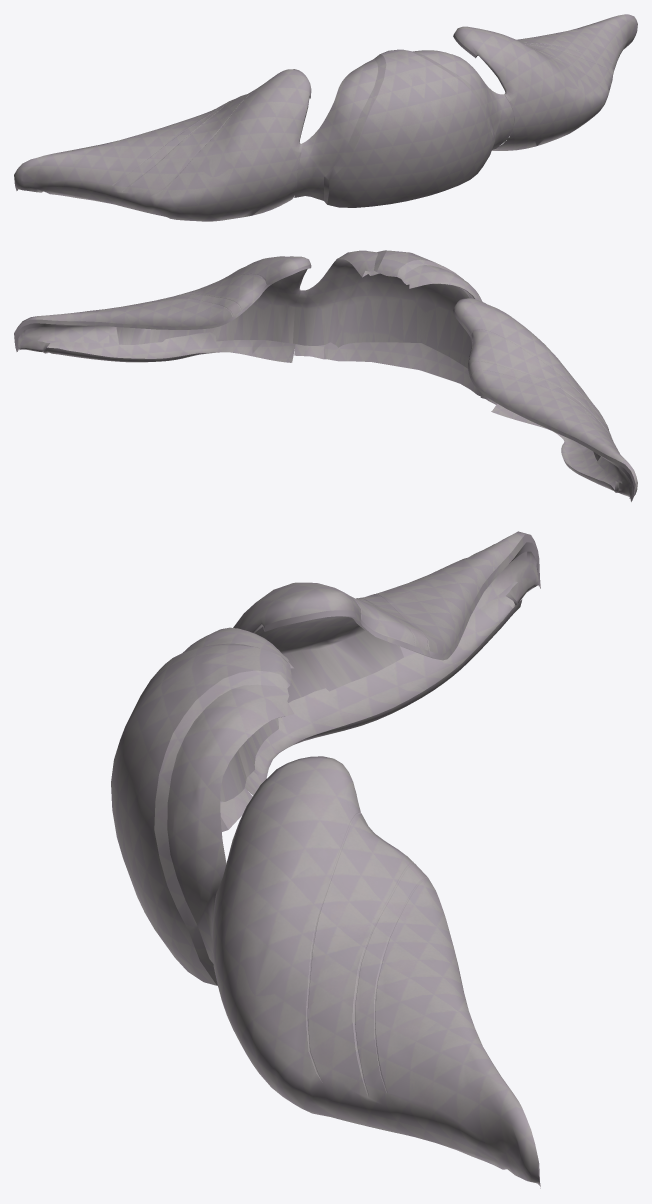
Rendered from pref_sm_beach_bk_pointmol_topbuild02_lv2.fbx.
The picture shows the model from 3 angles, top to bottom: view 1: azimuth 30°, elevation 25°; view 2: azimuth 150°, elevation 25°; view 3: azimuth 270°, elevation 25°; orthographic projection. The views are drawn at different scales.
Visible parts, largest first — view 1: sm_beach_bk_pointmol_topbuild01d_lv2, sm_beach_bk_pointmol_topbuild01b_lv2, sm_beach_bk_pointmol_topbuild01c_lv2; view 2: sm_beach_bk_pointmol_topbuild01c_lv2, sm_beach_bk_pointmol_topbuild01d_lv2, sm_beach_bk_pointmol_topbuild01b_lv2; view 3: sm_beach_bk_pointmol_topbuild01c_lv2, sm_beach_bk_pointmol_topbuild01d_lv2, sm_beach_bk_pointmol_topbuild01b_lv2.
Part boxes in pixels (bbox=[...]): sm_beach_bk_pointmol_topbuild01d_lv2: bbox=[294, 49, 514, 207]; sm_beach_bk_pointmol_topbuild01b_lv2: bbox=[14, 69, 311, 221]; sm_beach_bk_pointmol_topbuild01c_lv2: bbox=[453, 14, 637, 150]; sm_beach_bk_pointmol_topbuild01c_lv2: bbox=[14, 256, 311, 362]; sm_beach_bk_pointmol_topbuild01d_lv2: bbox=[293, 250, 496, 404]; sm_beach_bk_pointmol_topbuild01b_lv2: bbox=[453, 298, 637, 501]; sm_beach_bk_pointmol_topbuild01c_lv2: bbox=[212, 756, 540, 1188]; sm_beach_bk_pointmol_topbuild01d_lv2: bbox=[111, 627, 294, 985]; sm_beach_bk_pointmol_topbuild01b_lv2: bbox=[233, 531, 540, 795].
Size of the model in its own units: 157 by 31.81 by 46.99.
